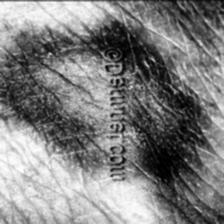Unclassified: (22, 42, 102, 170)
